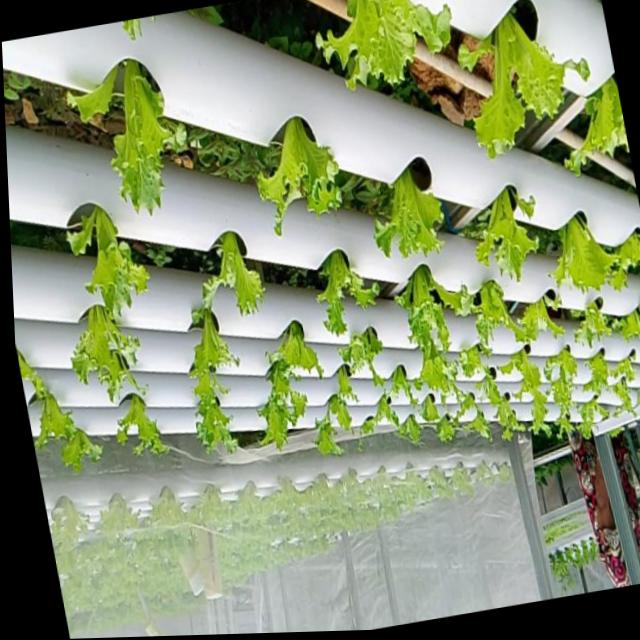Baby: (463, 16, 595, 162), (321, 0, 457, 91), (116, 60, 189, 216), (260, 117, 346, 236), (71, 207, 153, 319), (192, 300, 241, 453), (378, 158, 448, 258), (75, 306, 145, 402), (478, 186, 543, 281), (554, 215, 621, 296), (320, 250, 382, 336), (464, 280, 540, 350), (206, 232, 267, 316), (262, 362, 309, 450), (33, 377, 82, 450), (342, 326, 401, 385), (120, 394, 171, 456), (270, 321, 326, 377), (547, 346, 581, 432), (417, 340, 461, 402), (580, 399, 612, 439), (588, 353, 613, 396), (462, 346, 487, 379), (615, 378, 637, 414), (460, 391, 483, 421)
